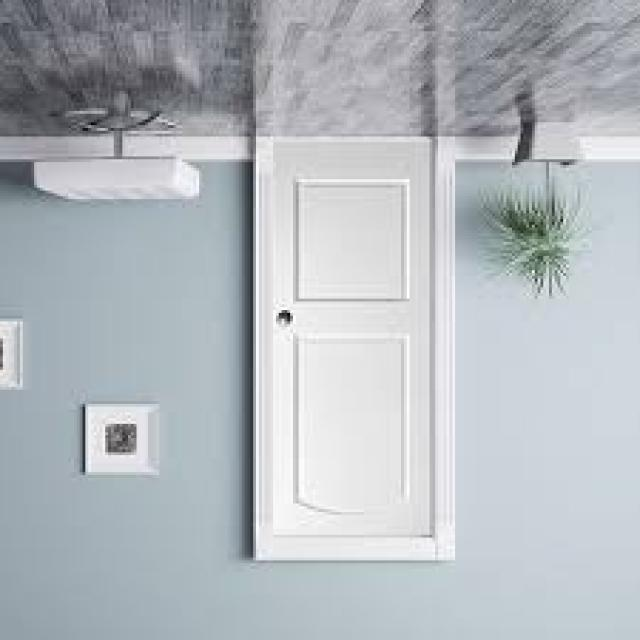door: (253, 135, 438, 562)
